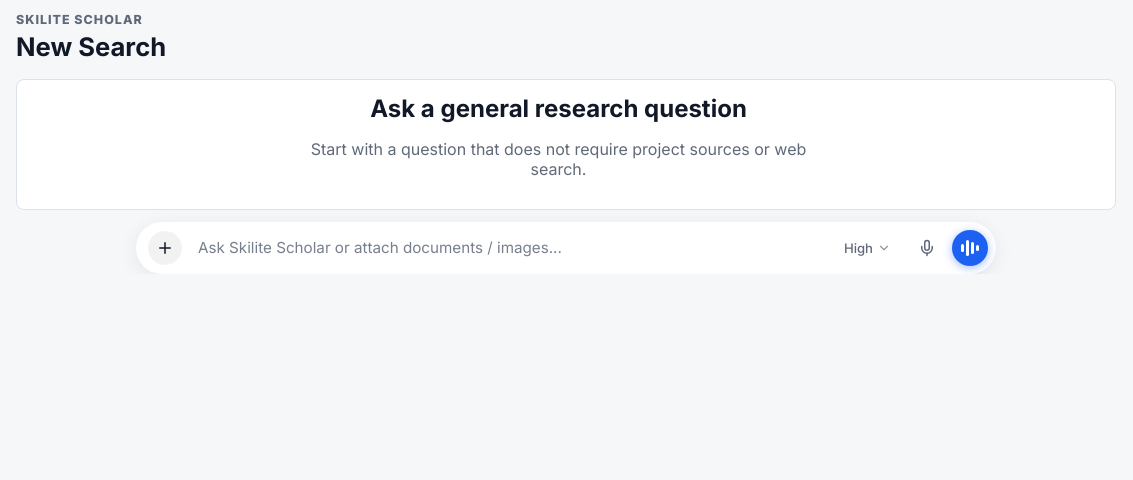
Test: ConversationWorkspacePage › starts a new search and displays the persisted response
This screenshot has width=1133, height=480.
Type "What is stratified sampling?" into the text box named "message" at (507, 248), box x1=192 y1=229 x2=823 y2=267
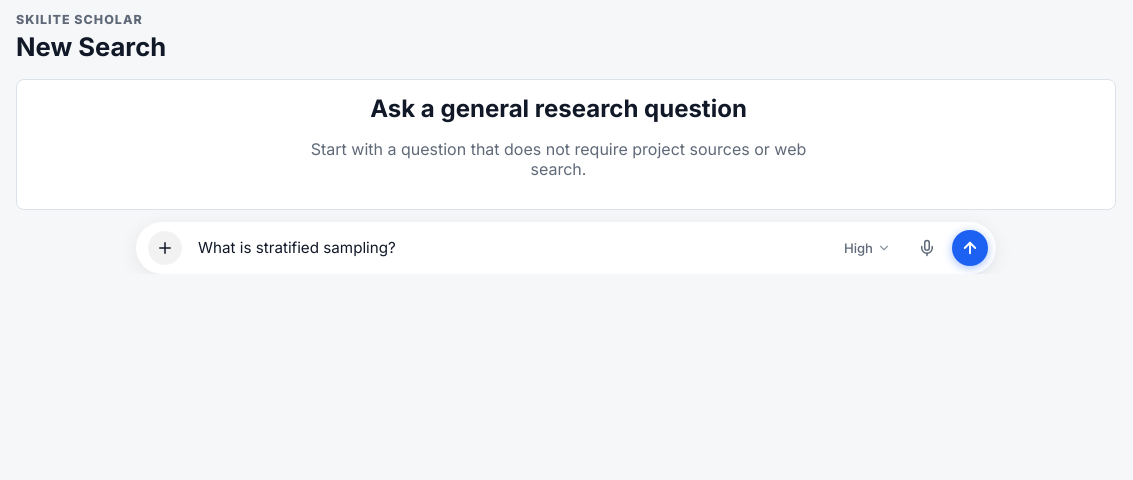
Click the button named "send" at (970, 248), box x1=952 y1=230 x2=988 y2=266
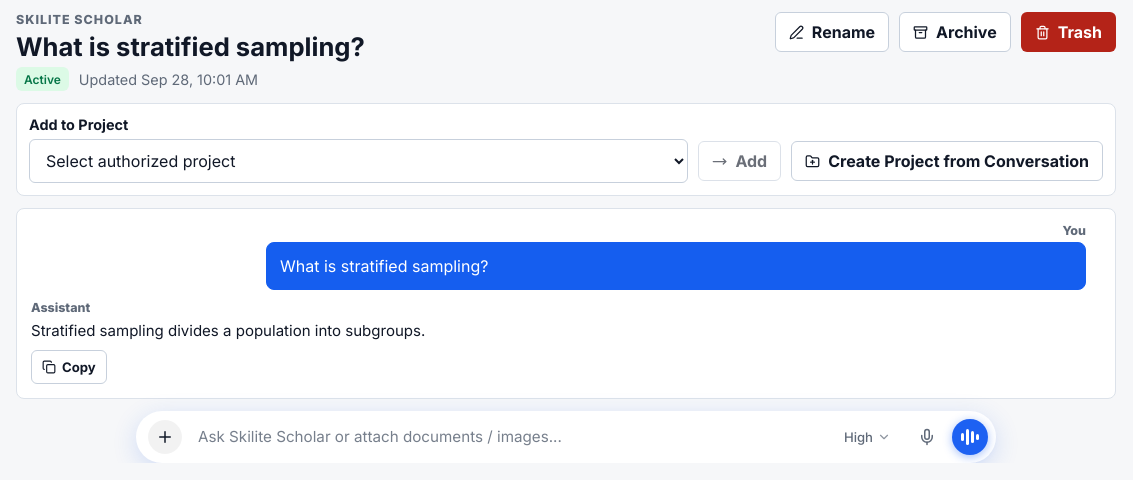
Expected: the text "Stratified sampling divides a population into subgroups." is shown, x1=31 y1=321 x2=425 y2=340
